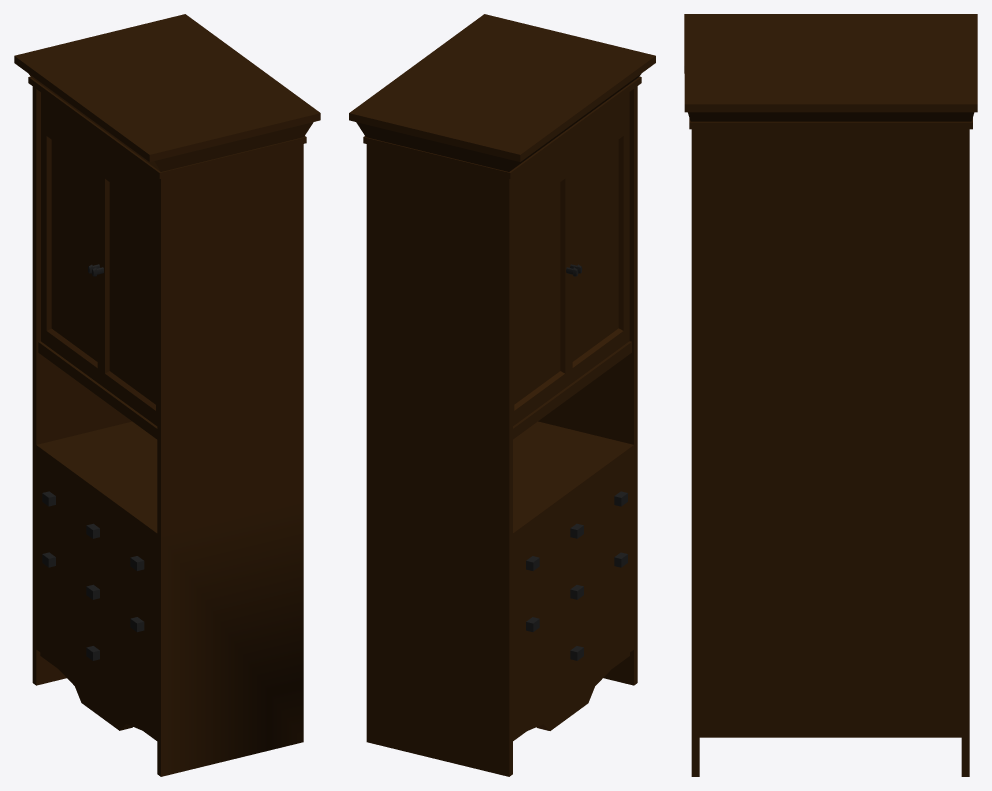
File: RE_RBedJStand.FBX
The picture shows the model from 3 angles, left to right: view 1: azimuth 30°, elevation 25°; view 2: azimuth 150°, elevation 25°; view 3: azimuth 270°, elevation 25°; orthographic projection. The views are drawn at different scales.
Parts seen in each view (by area): view 1: RE_RBedJStand; view 2: RE_RBedJStand; view 3: RE_RBedJStand.
Boxes of the visible parts, x1,y1,x2,y2 form: RE_RBedJStand: (14,14,320,776); RE_RBedJStand: (349,14,655,776); RE_RBedJStand: (684,14,977,776).
Bounding box in the file's own units: 24.77 × 86.81 × 33.94.
